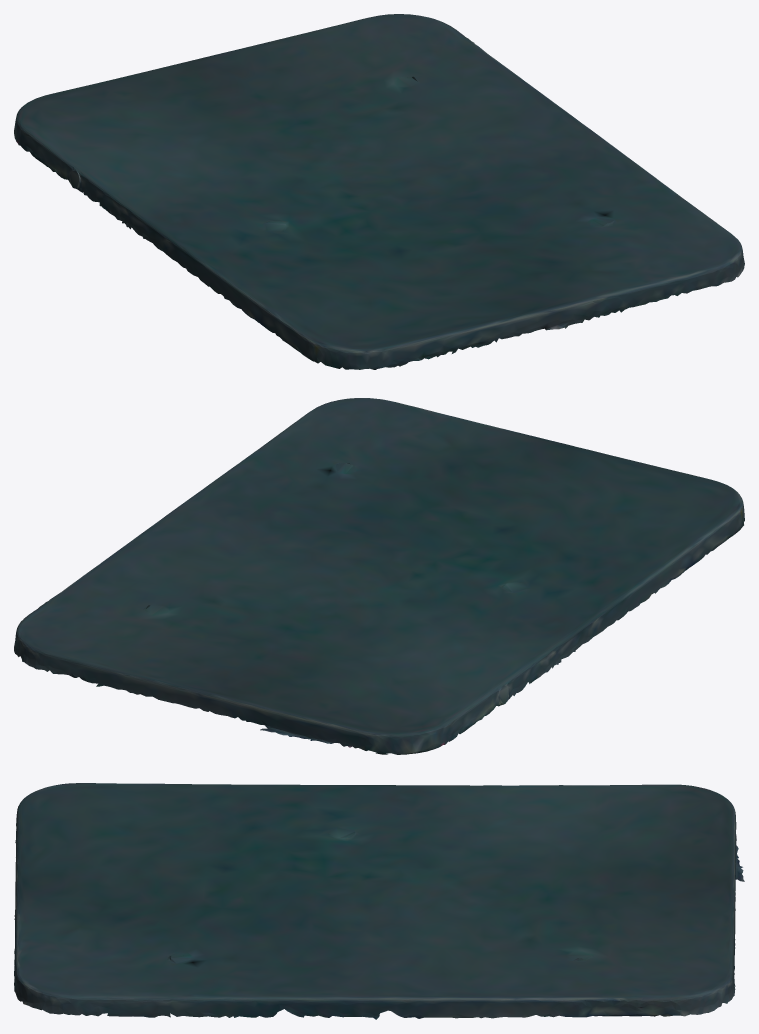
Rendered from scan.obj.
The picture shows the model from 3 angles, top to bottom: view 1: azimuth 30°, elevation 25°; view 2: azimuth 150°, elevation 25°; view 3: azimuth 270°, elevation 25°; orthographic projection. The views are drawn at different scales.
Parts seen in each view (by area): view 1: scan.ply; view 2: scan.ply; view 3: scan.ply.
Part boxes in pixels (bbox=[...]): scan.ply: bbox=[14, 14, 744, 369]; scan.ply: bbox=[14, 398, 744, 754]; scan.ply: bbox=[14, 783, 744, 1019].
Size of the model in its own units: 0.263 by 0.0149 by 0.3712.
